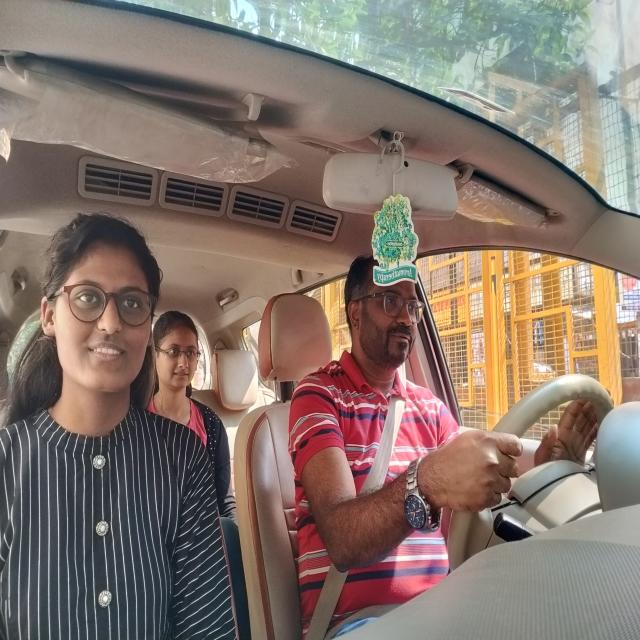person: (43, 206, 160, 432), (335, 242, 428, 383), (151, 301, 205, 401)
